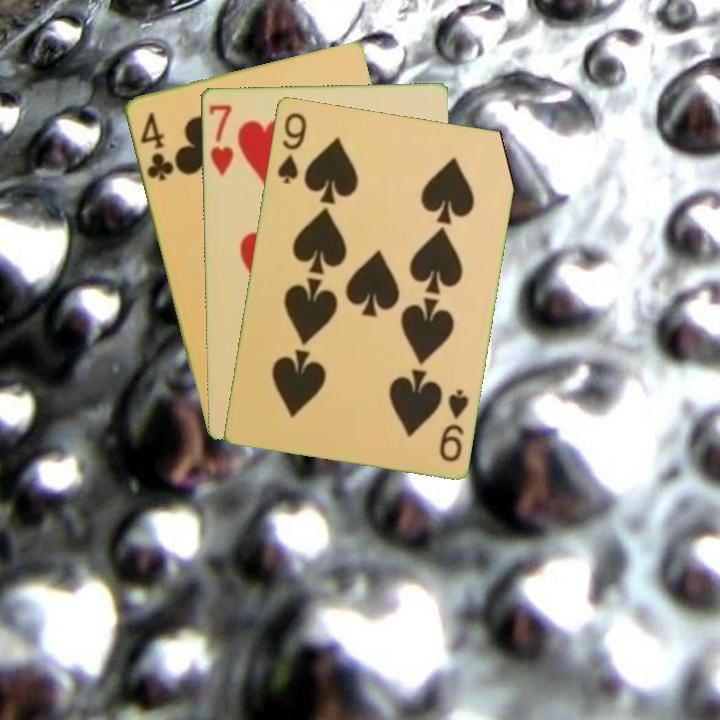4c: (136, 109, 176, 183)
7h: (205, 100, 236, 177)
9s: (435, 385, 472, 464), (273, 108, 309, 186)
